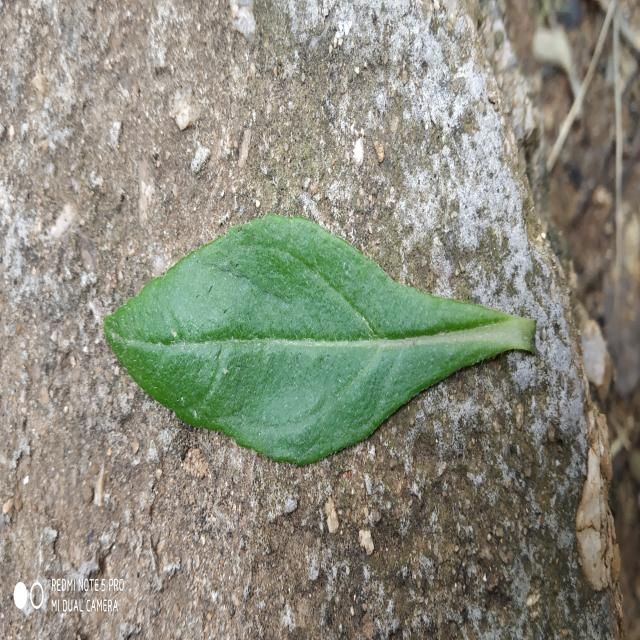bringaraja: (104, 215, 536, 465)
